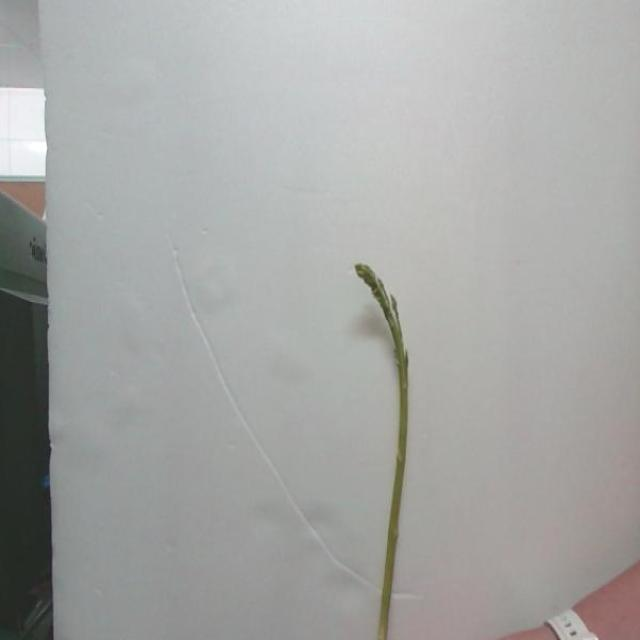aspargus: (355, 264, 412, 640)
